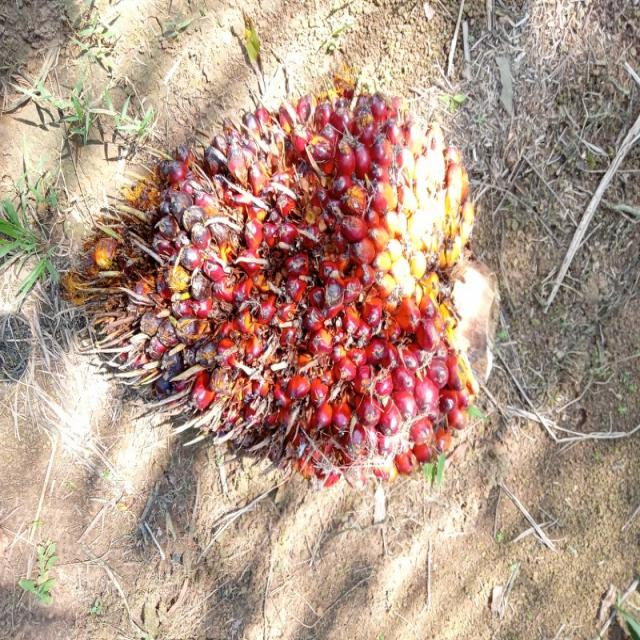fraksi 3: (47, 58, 550, 545)
